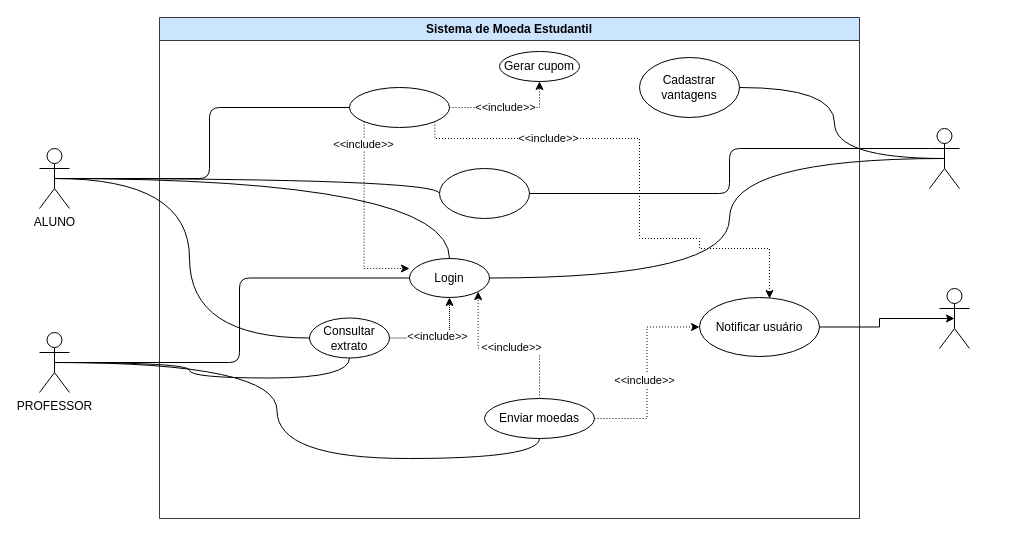
Image size: 1027x536. Some labels were removed from this diagram. Each missing label, with the box of its shape:
EMPRESA PARCEIRA: (928, 128, 960, 188)
Realizar cadastro: (438, 168, 530, 218)
SISTEMA DE EMAIL: (938, 288, 970, 348)
Trocar moedas: (348, 86, 450, 128)
